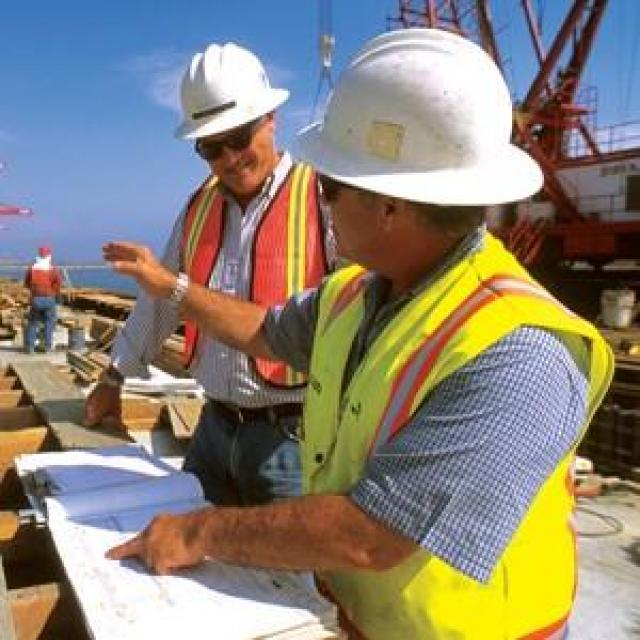Reflective-Jacket: (299, 245, 608, 636), (164, 157, 335, 405), (24, 259, 66, 308)
Safety-Helmet: (303, 29, 542, 215), (173, 38, 290, 146), (30, 234, 60, 264)
